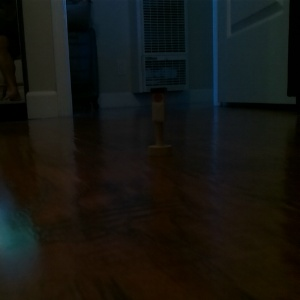traffic light red: (145, 85, 174, 158)
